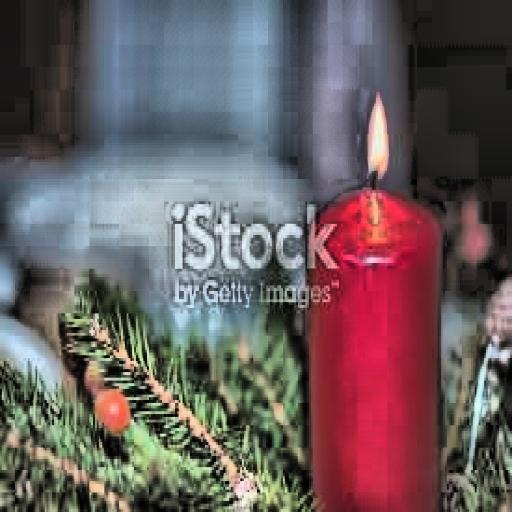fire: (363, 92, 398, 185)
